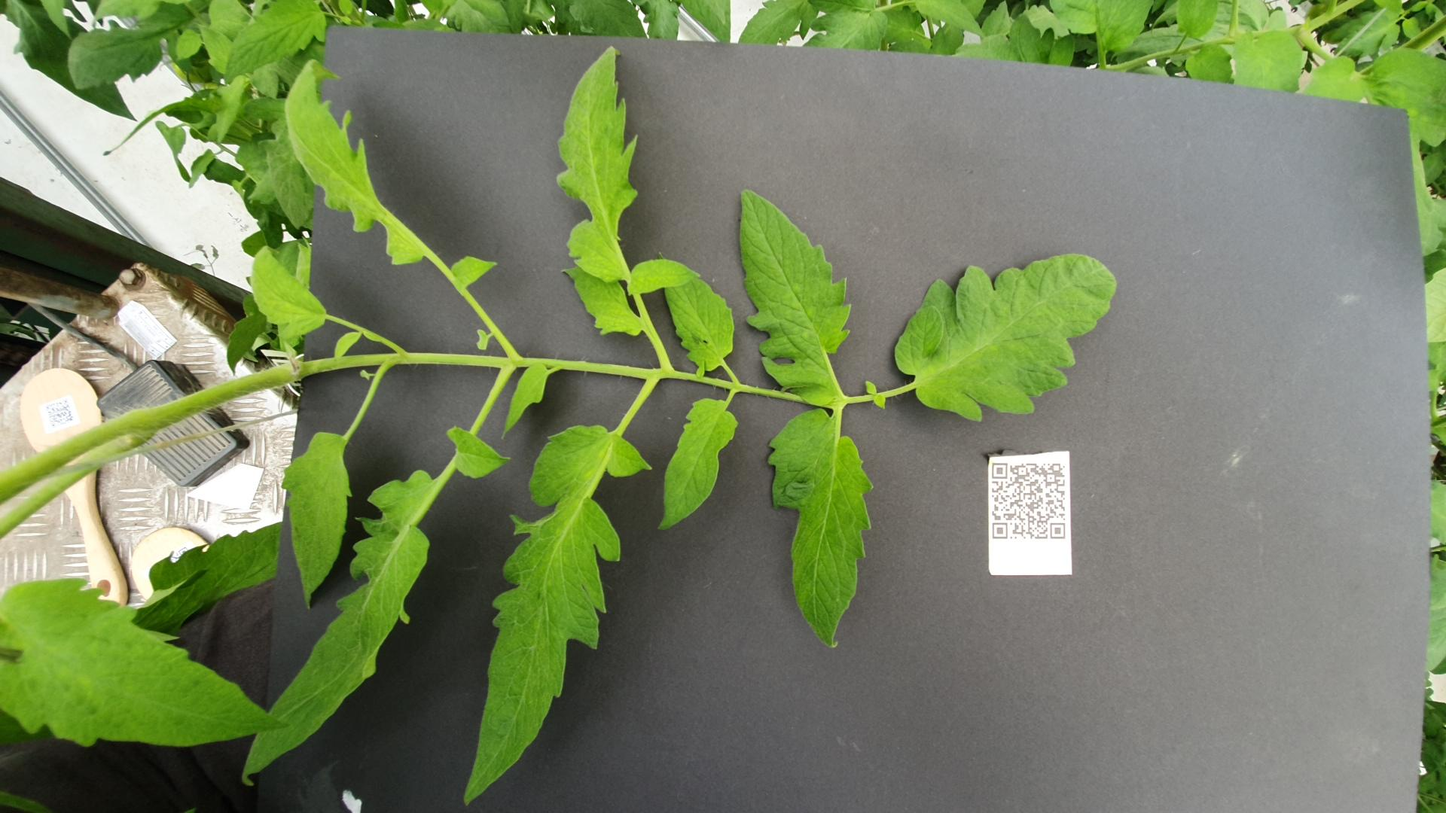Healthy: (16, 260, 690, 367), (47, 136, 612, 242), (116, 0, 419, 164), (690, 503, 999, 628), (974, 159, 1340, 240), (288, 430, 722, 491), (726, 414, 1113, 479), (946, 311, 1364, 362), (360, 157, 677, 198), (498, 368, 736, 416), (1295, 125, 1446, 183), (842, 140, 1010, 183), (789, 373, 953, 413), (1289, 38, 1412, 91), (850, 315, 974, 361), (660, 279, 801, 309), (1366, 414, 1446, 460), (594, 251, 688, 288), (921, 351, 986, 395), (935, 254, 991, 281)
